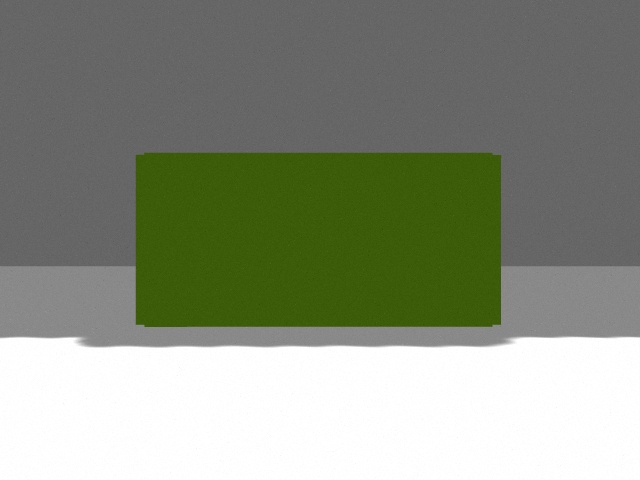green_drop_zone: (136, 153, 501, 327)
